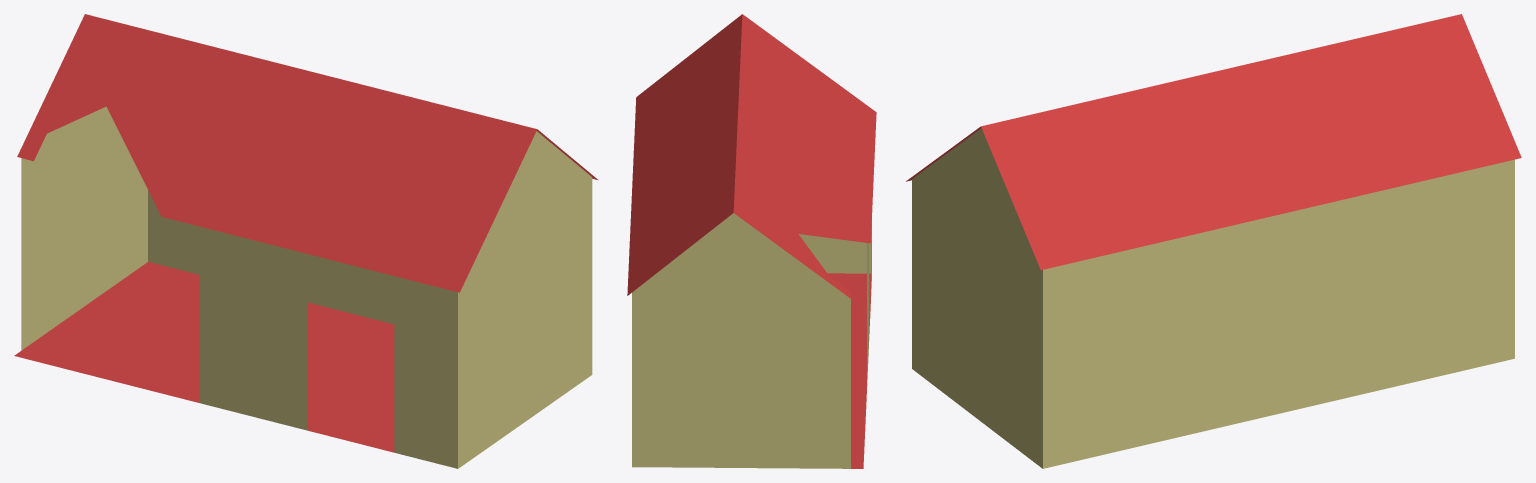
3 renders of one model, left to right at view 1: azimuth 30°, elevation 25°; view 2: azimuth 150°, elevation 25°; view 3: azimuth 270°, elevation 25°, orthographic. The views are drawn at different scales.
Bounding box in the file's own units: 24.74 × 30.24 × 16.22.
